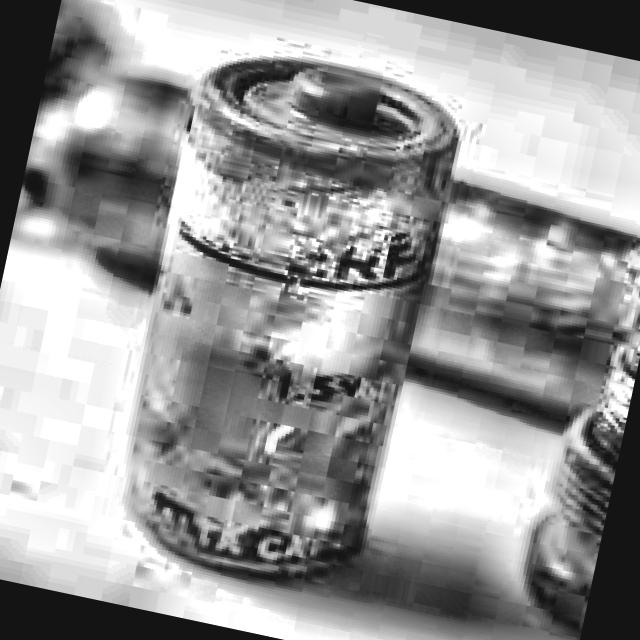Battery: (102, 42, 464, 609)
